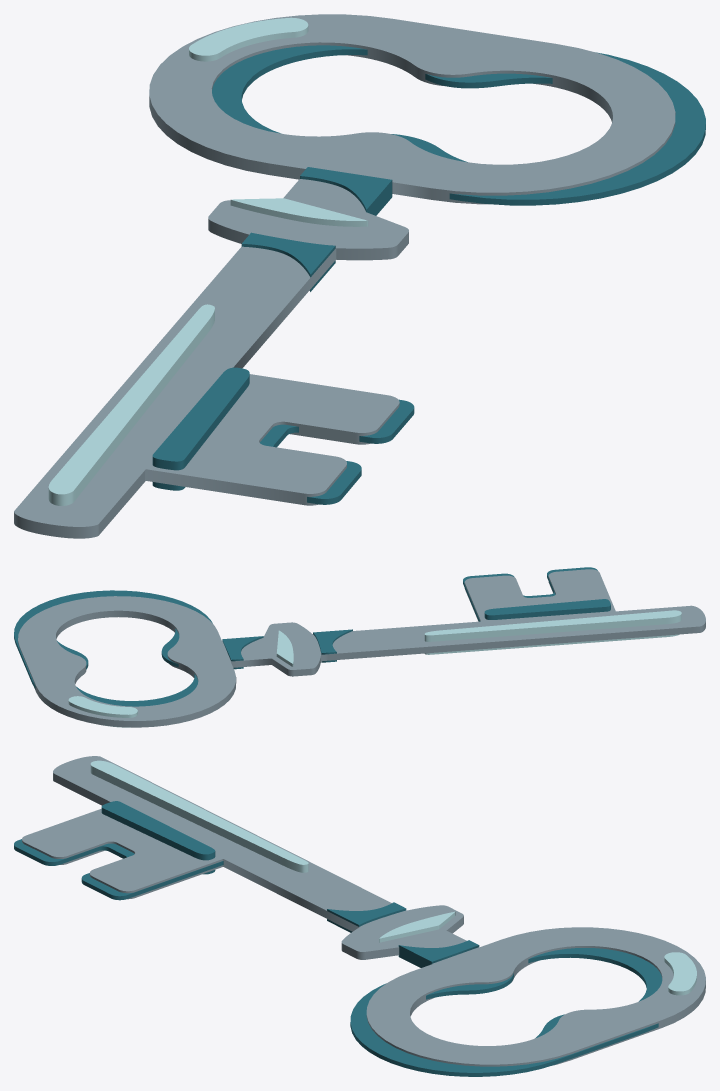
The model's file is emoji_u1f5dd.glb.
3 renders of one model, top to bottom at view 1: azimuth 30°, elevation 25°; view 2: azimuth 150°, elevation 25°; view 3: azimuth 270°, elevation 25°, orthographic. The views are drawn at different scales.
Visible parts, largest first — view 1: emoji_u1f5dd; view 2: emoji_u1f5dd; view 3: emoji_u1f5dd.
Part boxes in pixels (x1=…): emoji_u1f5dd: x1=14, y1=14, x2=705, y2=538; emoji_u1f5dd: x1=14, y1=567, x2=705, y2=727; emoji_u1f5dd: x1=14, y1=756, x2=705, y2=1076.
Size of the model in its own units: 0.0339 by 0.0012 by 0.0314.
